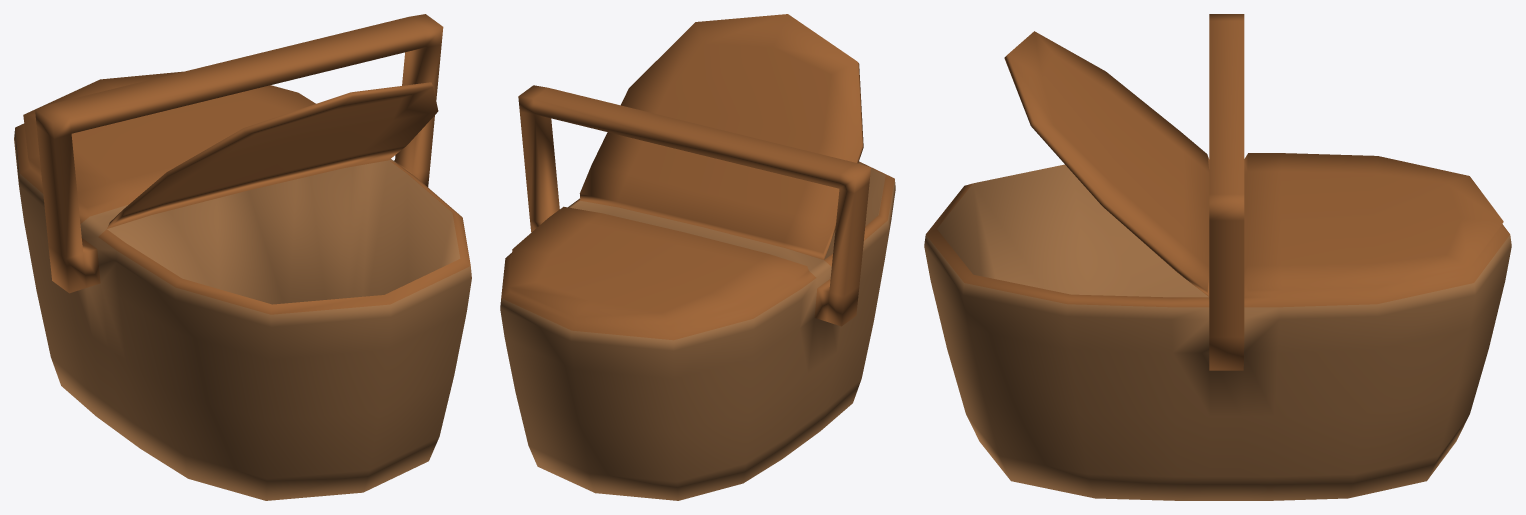
Rendered from FixedpicnicBasket.fbx.
3 renders of one model, left to right at view 1: azimuth 30°, elevation 25°; view 2: azimuth 150°, elevation 25°; view 3: azimuth 270°, elevation 25°, orthographic. The views are drawn at different scales.
Parts seen in each view (by area): view 1: Cube; view 2: Cube; view 3: Cube.
Part boxes in pixels (x1,y1,x2,y2): Cube: (14,14,471,500); Cube: (500,14,895,500); Cube: (924,14,1511,500).
Size of the model in its own units: 420 by 400 by 549.
